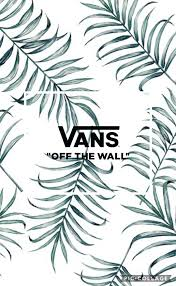vans: (58, 126, 120, 148)
